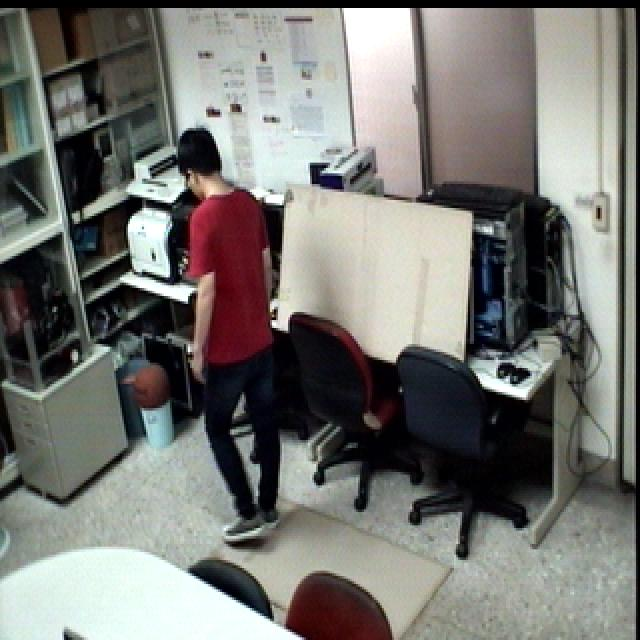stand: (167, 108, 285, 547)
